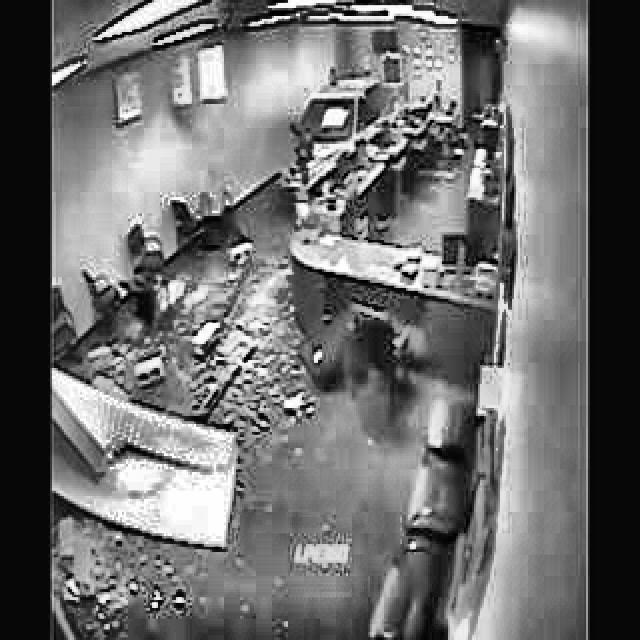burglary: (276, 70, 402, 202)
